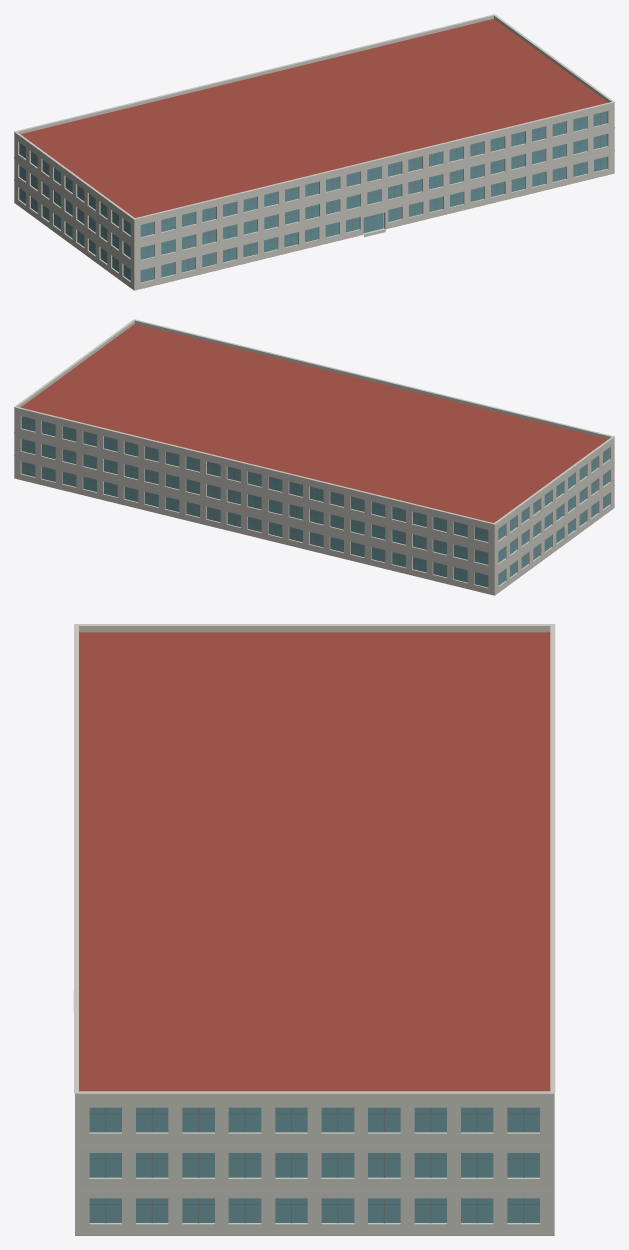
3 renders of one model, top to bottom at view 1: azimuth 30°, elevation 25°; view 2: azimuth 150°, elevation 25°; view 3: azimuth 270°, elevation 25°, orthographic. The views are drawn at different scales.
Visible parts, largest first — view 1: webtoon__roof, webtoon__wall, webtoon__glass, webtoon__trim, webtoon__parapet, webtoon__frame; view 2: webtoon__roof, webtoon__wall, webtoon__glass, webtoon__trim, webtoon__parapet, webtoon__frame; view 3: webtoon__roof, webtoon__wall, webtoon__glass, webtoon__trim, webtoon__parapet, webtoon__frame.
Boxes of the visible parts, x1=… form: webtoon__roof: x1=17, y1=19, x2=607, y2=290; webtoon__wall: x1=14, y1=105, x2=614, y2=290; webtoon__glass: x1=19, y1=111, x2=607, y2=282; webtoon__trim: x1=14, y1=14, x2=614, y2=268; webtoon__parapet: x1=14, y1=15, x2=614, y2=222; webtoon__frame: x1=19, y1=113, x2=607, y2=280; webtoon__roof: x1=21, y1=324, x2=611, y2=595; webtoon__wall: x1=14, y1=410, x2=614, y2=595; webtoon__glass: x1=21, y1=416, x2=609, y2=587; webtoon__trim: x1=14, y1=319, x2=614, y2=573; webtoon__parapet: x1=14, y1=320, x2=614, y2=527; webtoon__frame: x1=21, y1=418, x2=609, y2=585; webtoon__roof: x1=75, y1=632, x2=554, y2=1235; webtoon__wall: x1=75, y1=1099, x2=554, y2=1235; webtoon__glass: x1=89, y1=1107, x2=539, y2=1222; webtoon__trim: x1=74, y1=624, x2=555, y2=1191; webtoon__parapet: x1=75, y1=626, x2=554, y2=1099; webtoon__frame: x1=89, y1=1107, x2=539, y2=1223.
Size of the model in its own units: 79.85 by 11.7 by 34.62.
